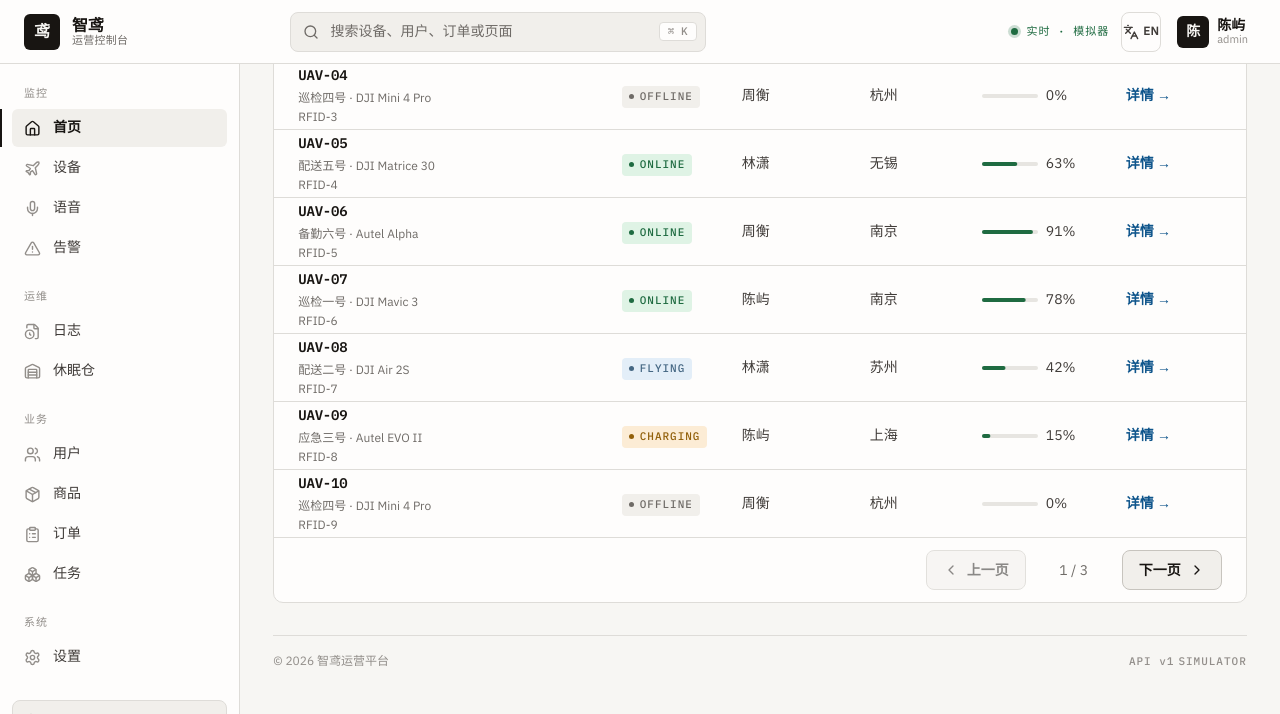
UavListView › pages the fleet once it exceeds one page
(page scrolled)
Expected: the text "1 / 3" is shown, x1=1059 y1=560 x2=1115 y2=589
Click the button "下一页": (1172, 570) x1=1122 y1=550 x2=1222 y2=590
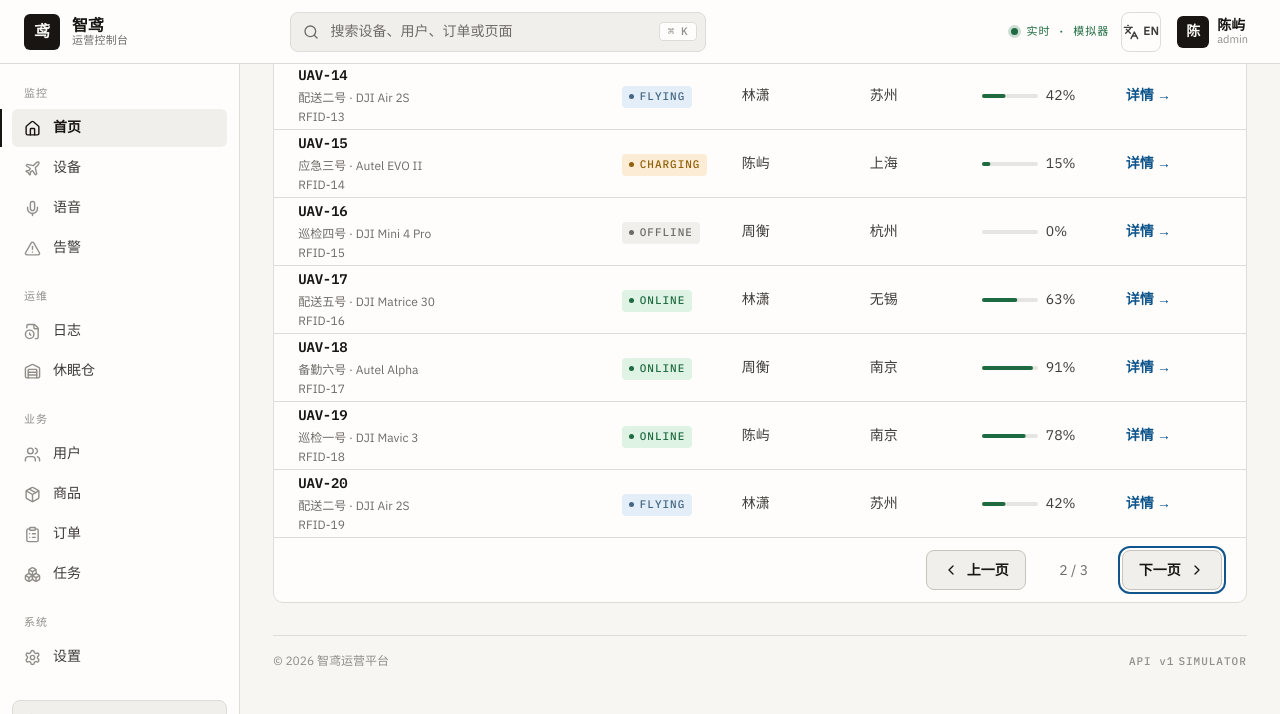
Expected: the text "2 / 3" is shown, x1=1059 y1=560 x2=1115 y2=589
